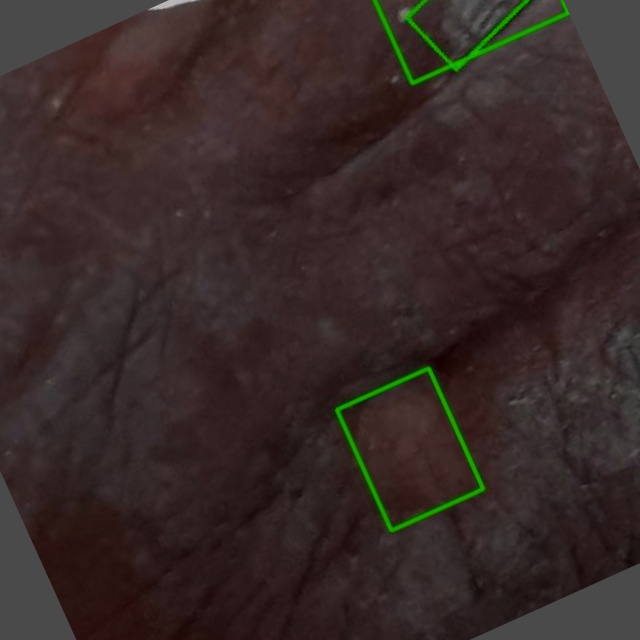Eczema: (336, 368, 483, 530)
